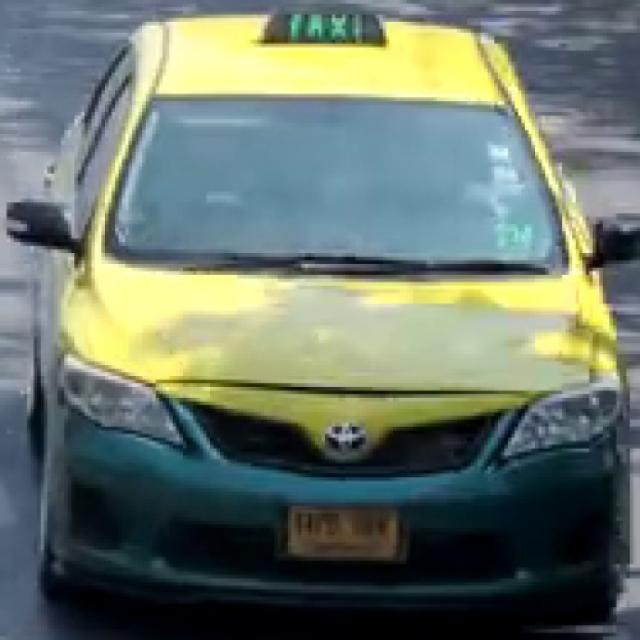plate: (284, 502, 399, 558)
